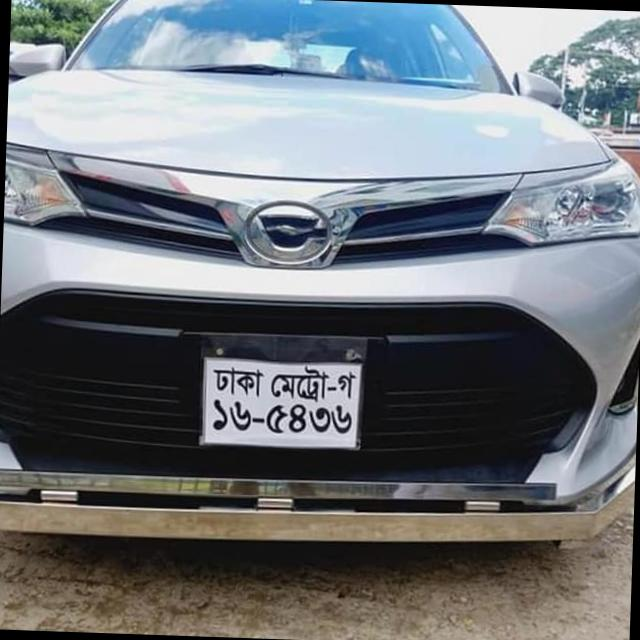Number-Plate: (186, 329, 377, 454)
